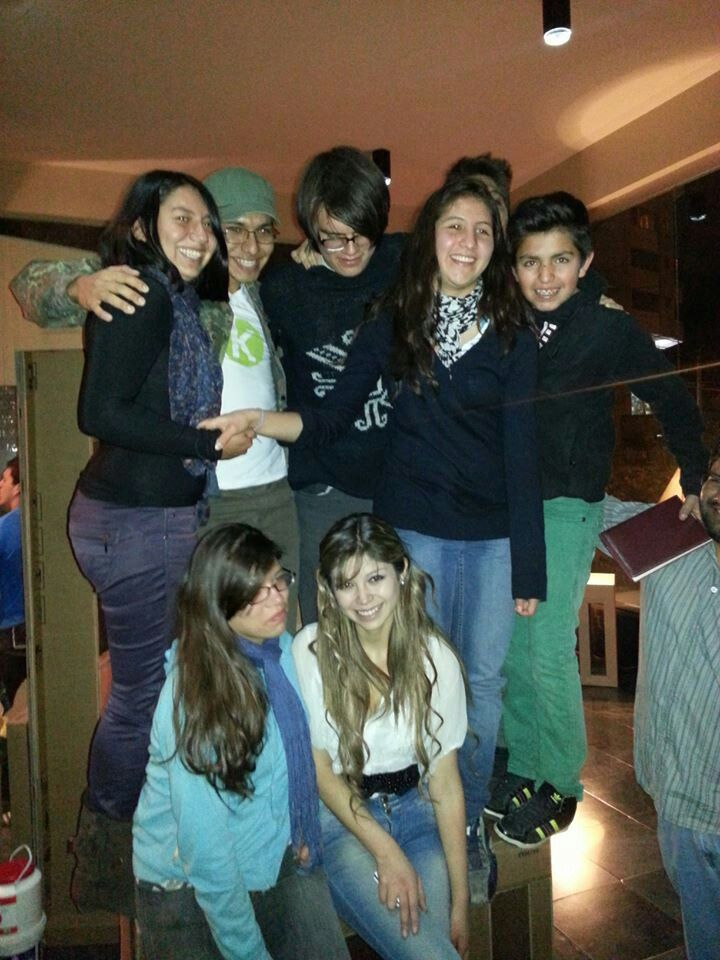person: (385, 154, 528, 627), (295, 517, 474, 883), (87, 169, 251, 554), (150, 534, 315, 888)
